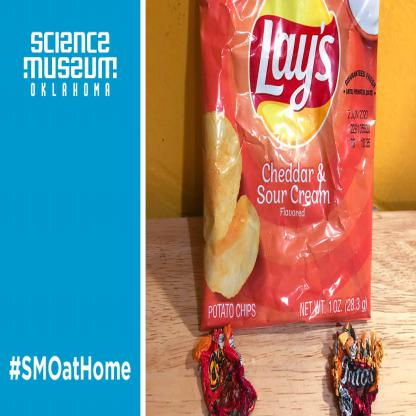potatochip: (184, 0, 384, 336)
